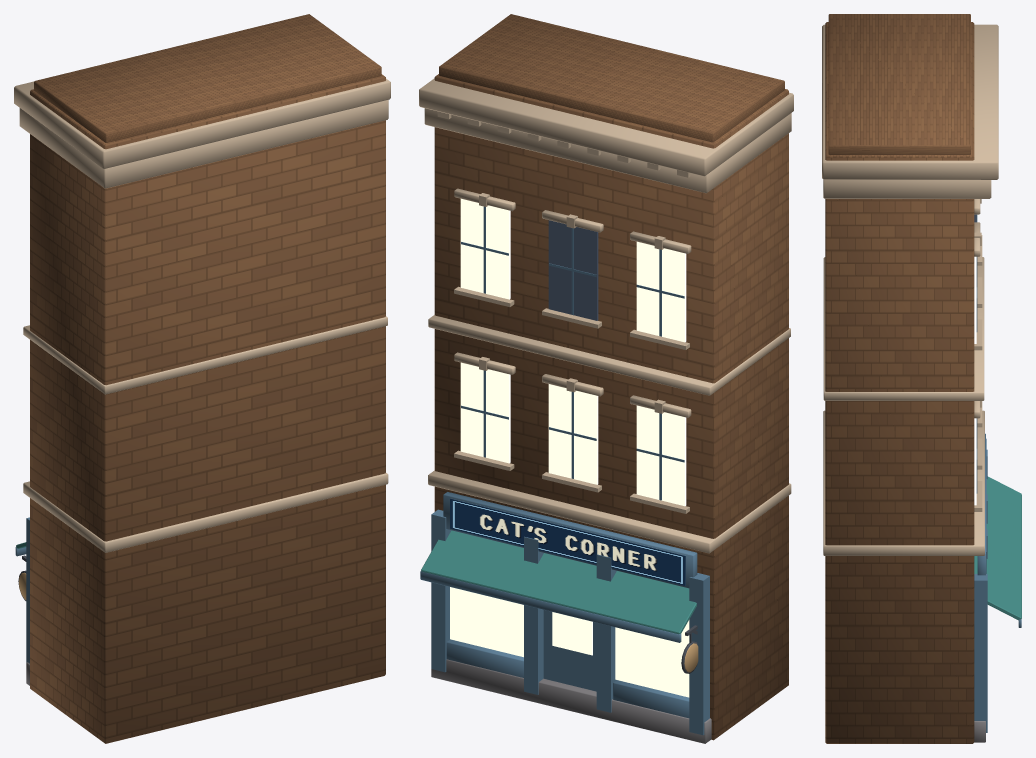
The model's file is building_limestone_shop.glb.
3 views of the same model, side by side, from view 1: azimuth 30°, elevation 25°; view 2: azimuth 150°, elevation 25°; view 3: azimuth 270°, elevation 25° (orthographic).
Visible parts, largest first — view 1: Building_Limestone_Shop; view 2: Building_Limestone_Shop; view 3: Building_Limestone_Shop.
Part boxes in pixels (left/top/right/bottom): Building_Limestone_Shop: left=14, top=14, right=390, bottom=743; Building_Limestone_Shop: left=419, top=14, right=793, bottom=743; Building_Limestone_Shop: left=822, top=14, right=1021, bottom=743.
Size of the model in its own units: 6.14 by 12.39 by 3.75.
Materials: 10 (2 with a texture image).
